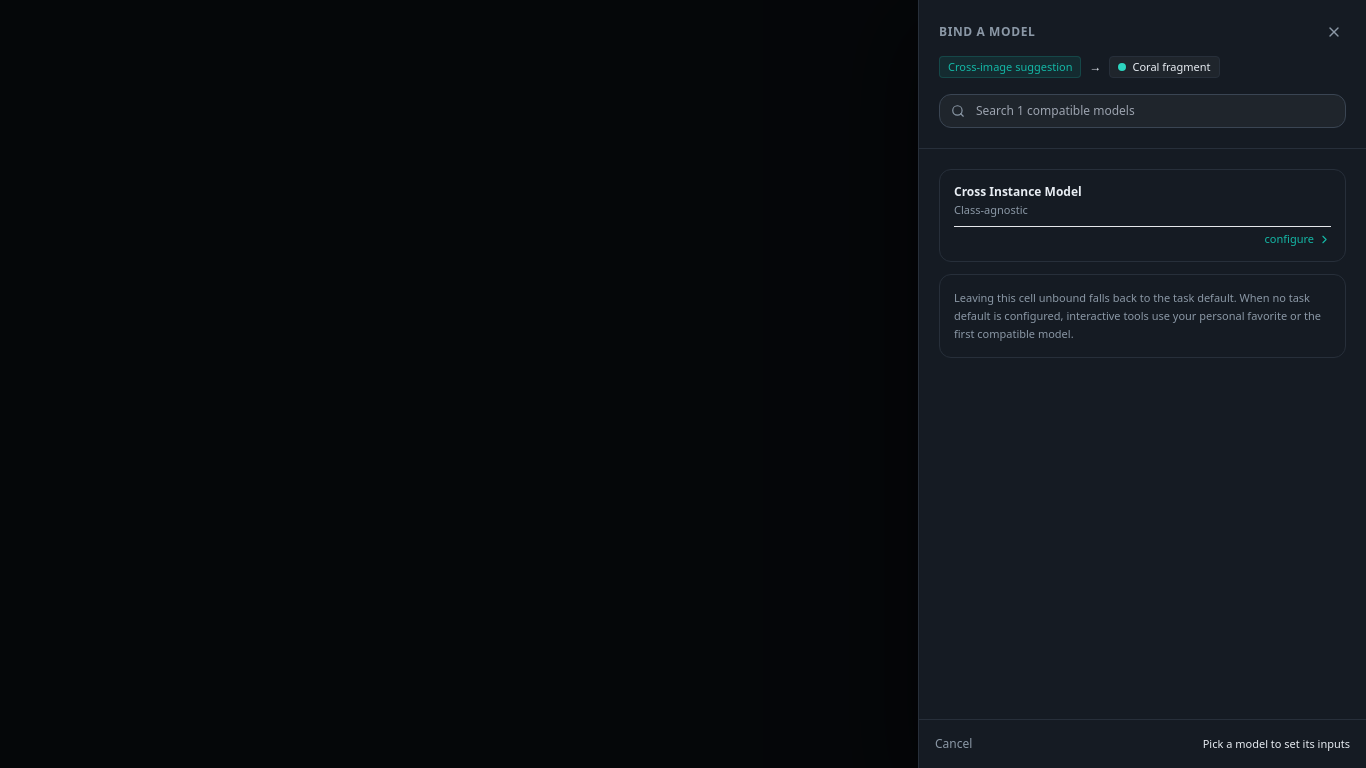
Test: MatrixSideDrawer (Design B) › describes cross-image instance conditioning as retrieval from other dataset images
The image size is (1366, 768).
Click the button "configure" at (1298, 239), box [1264,231,1331,247]
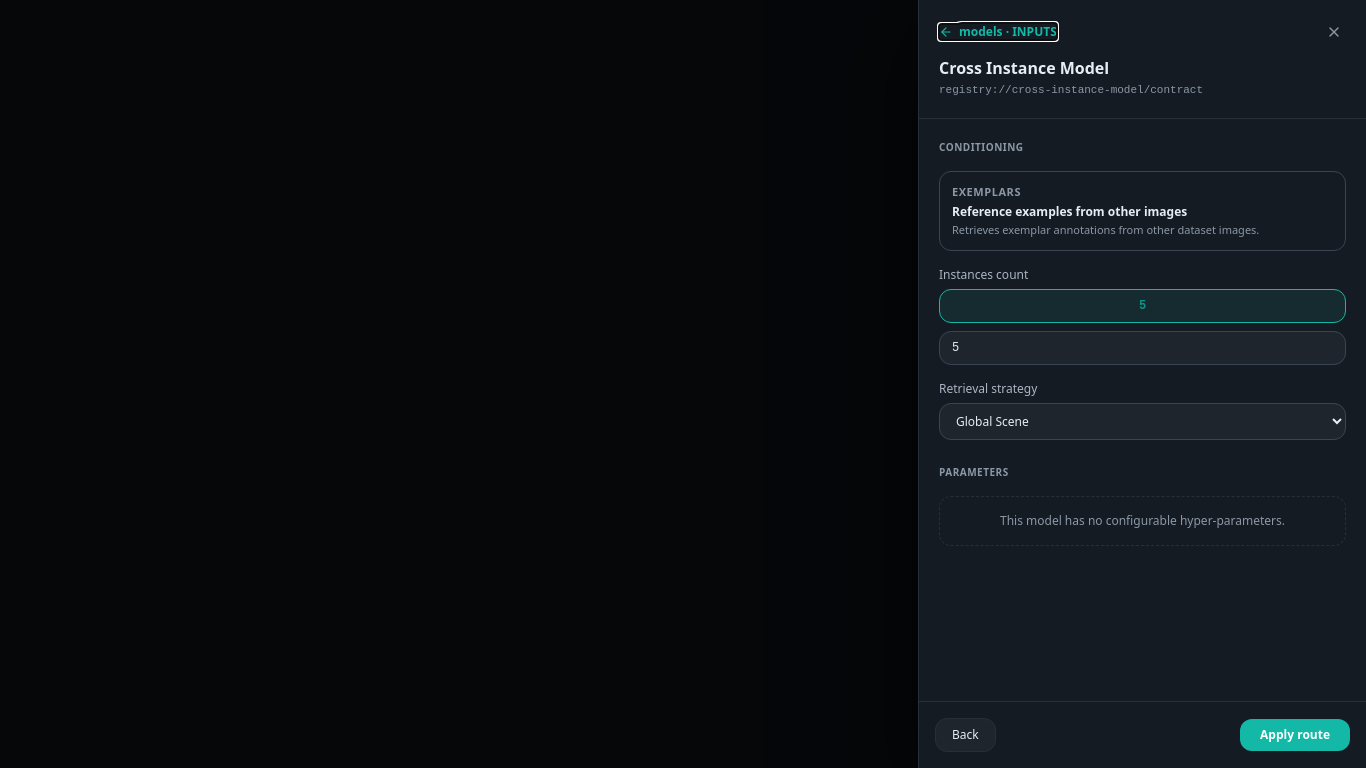
Check: the text "Reference examples from other images" is shown, box [952,203,1187,220]
Check: the text "Retrieves exemplar annotations from other dataset images." is shown, box [952,222,1259,237]
